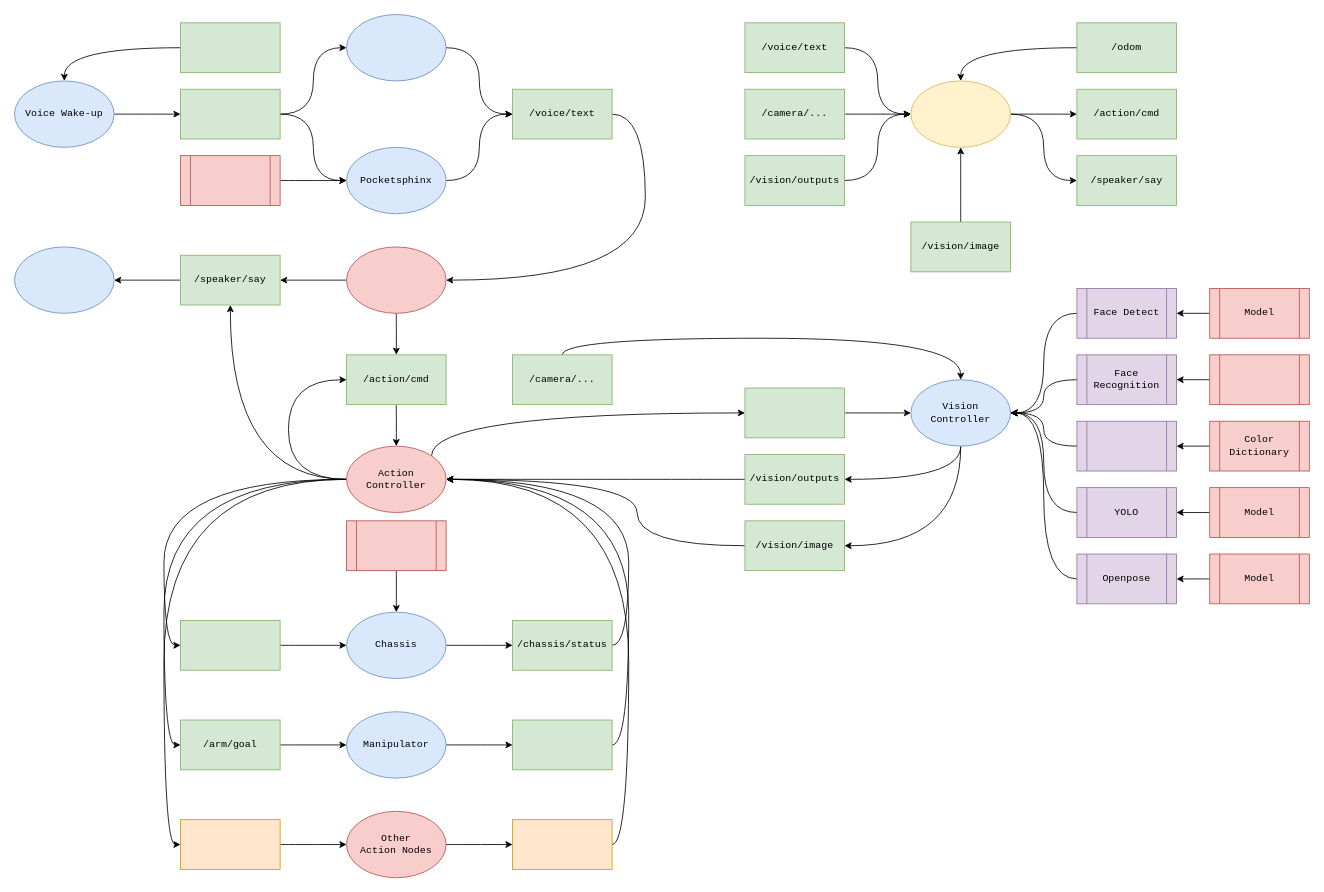
This 1324x892 diagram has some shape labels left out. The shapes that lost their labels are listed below. From the top down, each one's box as (x1, y1, x2, y2) in pixels, then its label:
(180, 22, 280, 73): /voice/use
(346, 14, 446, 81): Online Speech Recognition
(180, 88, 280, 139): /voice/wakeup
(910, 80, 1011, 147): GUI
(180, 155, 280, 205): dic file
(14, 246, 114, 313): Speaker
(346, 246, 446, 313): Voice Controller
(1209, 354, 1309, 405): User Dictionary
(744, 387, 845, 438): /vision/cmd
(1076, 420, 1177, 471): Color Detect
(346, 520, 446, 571): map file
(180, 620, 280, 670): /chassis/goal
(512, 719, 612, 770): /arm/status
(180, 819, 280, 869): ~/action
(512, 819, 612, 869): ~/status
